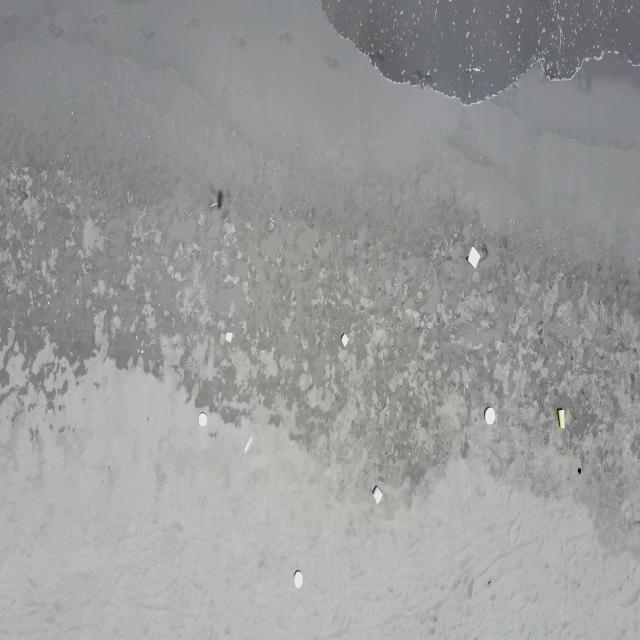take-away-containers: (468, 245, 481, 269), (484, 407, 496, 426), (292, 570, 304, 587), (372, 486, 382, 504), (198, 412, 208, 427), (341, 333, 349, 348), (225, 332, 232, 343)
takeaway-cup: (243, 433, 254, 453), (558, 408, 565, 429)
